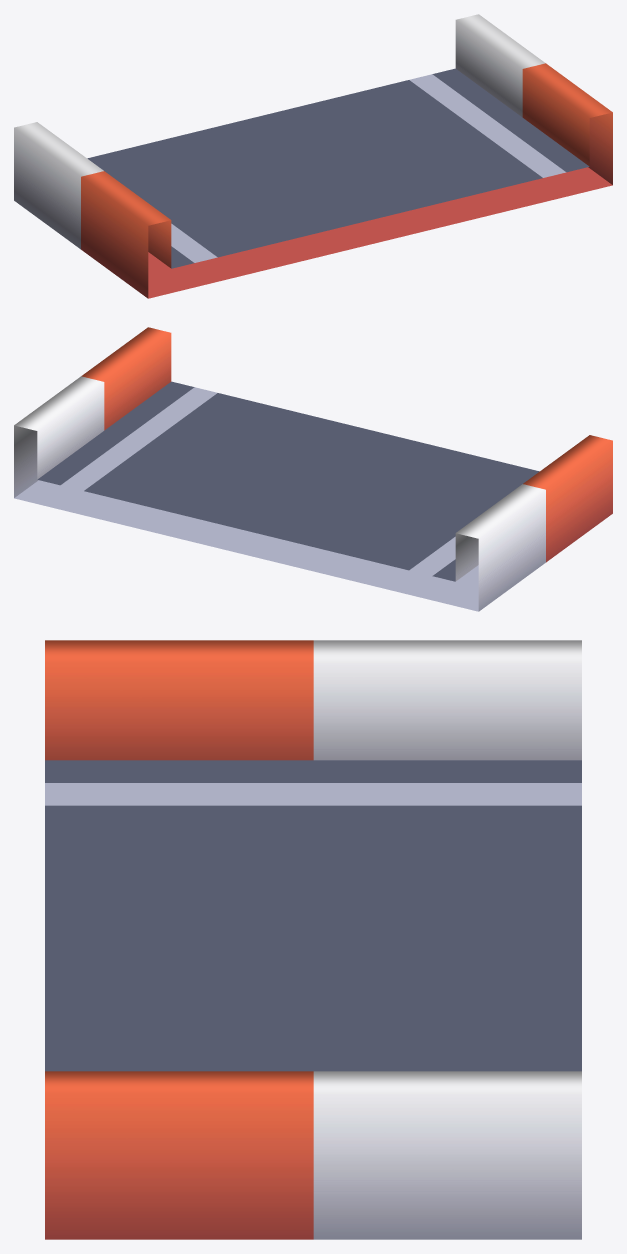
The model's file is kenney-toy-car-track-road-wide.glb.
3 renders of one model, top to bottom at view 1: azimuth 30°, elevation 25°; view 2: azimuth 150°, elevation 25°; view 3: azimuth 270°, elevation 25°, orthographic. The views are drawn at different scales.
Parts seen in each view (by area): view 1: track-road-wide; view 2: track-road-wide; view 3: track-road-wide.
Boxes of the visible parts, x1,y1,x2,y2 form: track-road-wide: (14,14,612,298); track-road-wide: (14,327,612,611); track-road-wide: (45,640,581,1239).
Bounding box in the file's own units: 2 × 0.3001 × 1.
1 material, 1 textured.
